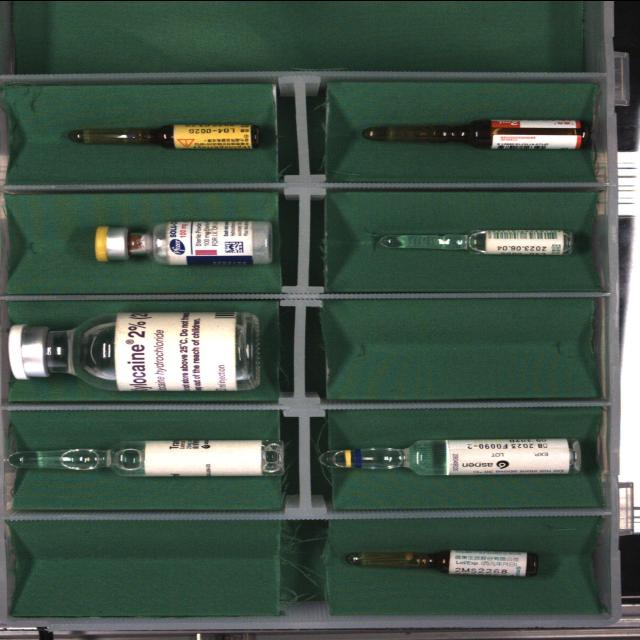Vials: (9, 311, 260, 391), (95, 221, 272, 265)
